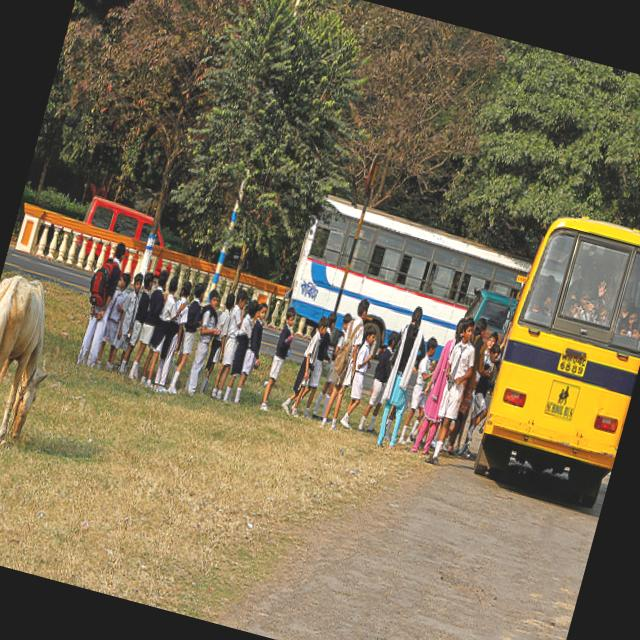Vehicle: (463, 202, 640, 512), (281, 190, 532, 380), (82, 197, 170, 247), (458, 285, 519, 344)
